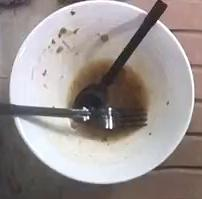soup: (72, 60, 148, 130)
